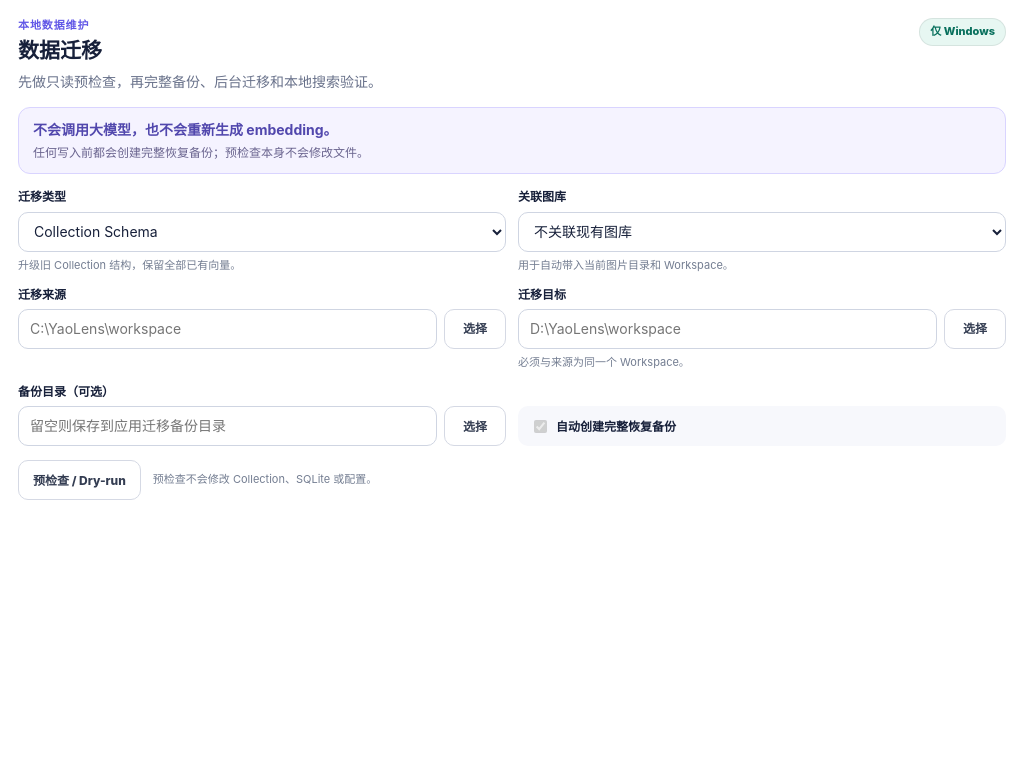
Test case: DataMigrationSection › renders dry-run counts, backup size, and zero model requests
Select "人物图库" in the dropdown named "migration_library". click: x=762, y=232
box: [518,212,1006,252]
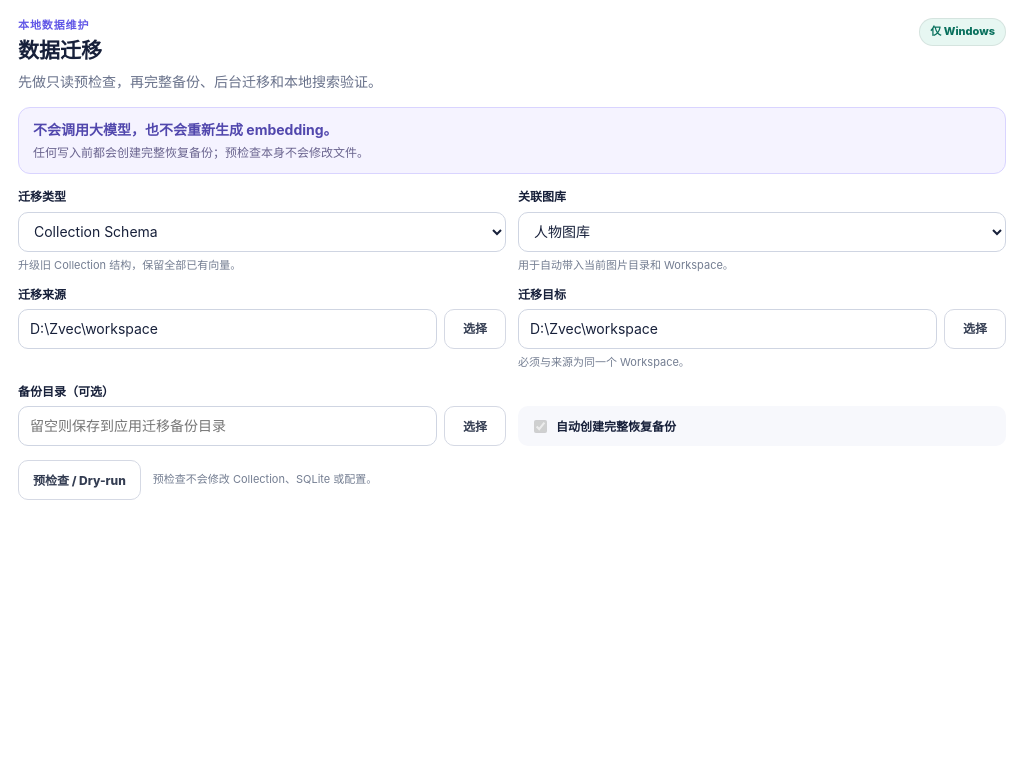
Submit the form with class "migration-form", box [18,188,1006,500]
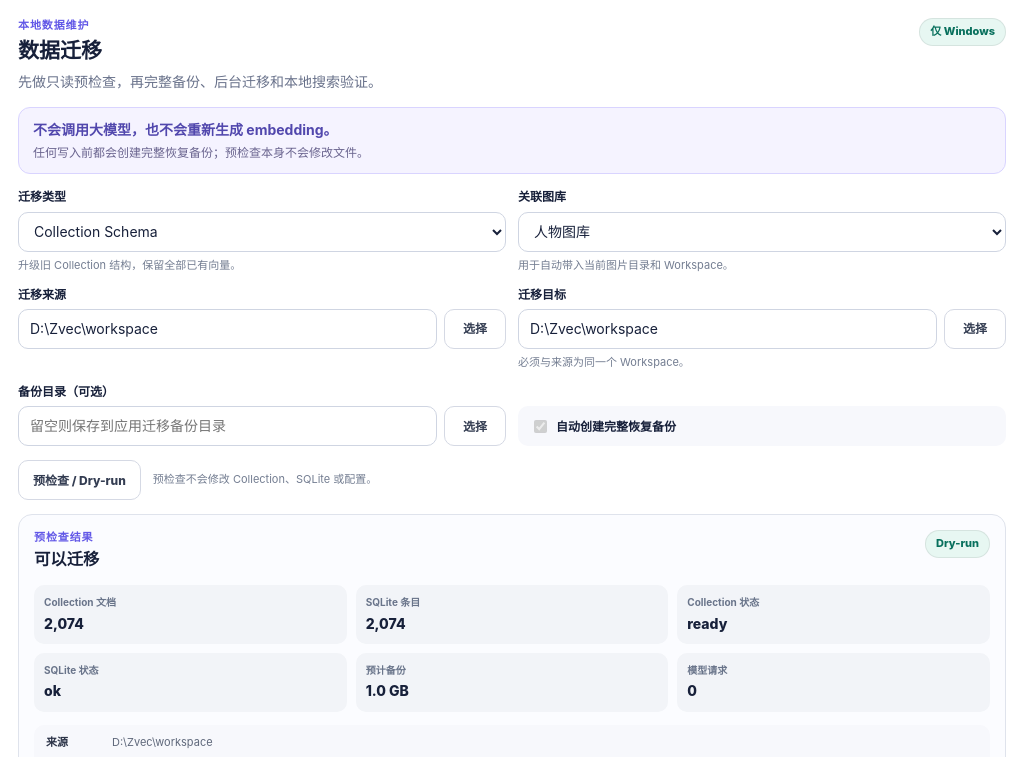
Now the text "可以迁移" is shown, box [34,548,99,572]
Now the text "2,074" is shown, box [44,615,84,632]
Now the text "1.0 GB" is shown, box [366,682,409,699]
